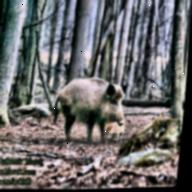boar: (49, 61, 146, 127)
